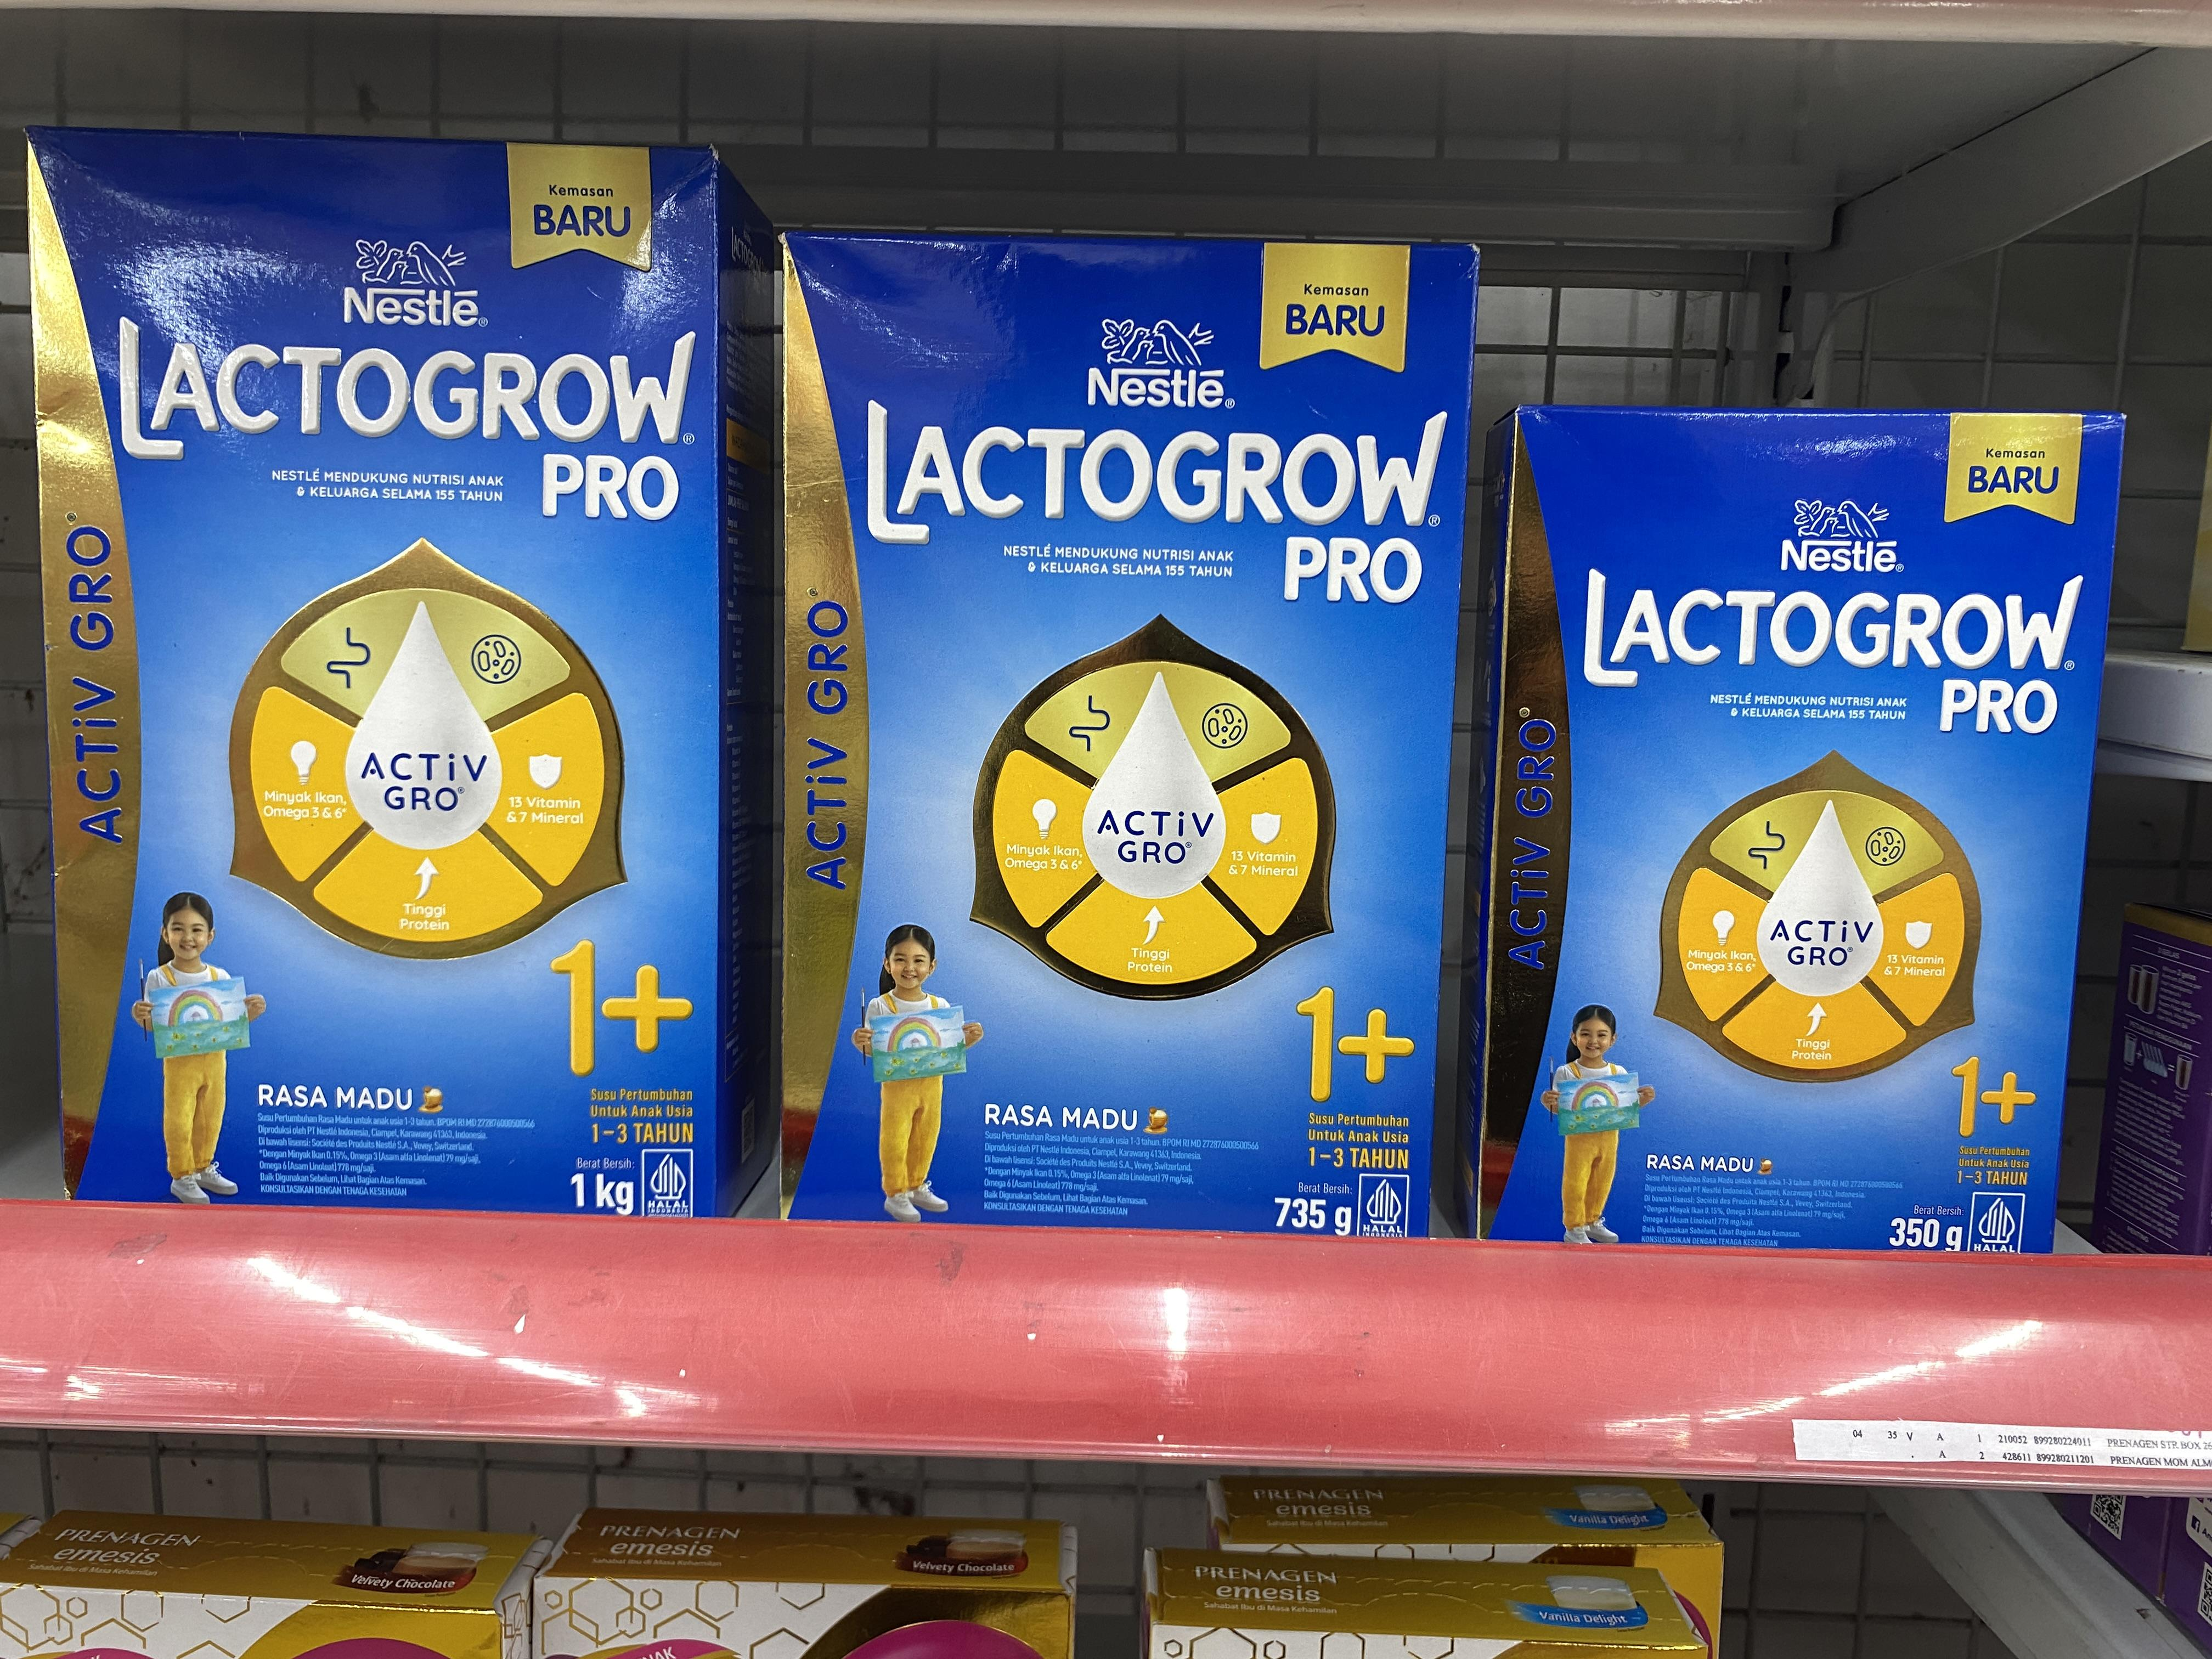LACTOGROW 3 Happynutri Honey 12x1kg N1 ID_REDESIGN2: (26, 129, 719, 1218), (777, 225, 1467, 1234)
LACTOGROW 3 Happynutri Honey 12x750g N1 ID_REDESIGN2: (23, 129, 716, 1218), (772, 230, 1467, 1234), (1475, 408, 2113, 1253)
LACTOGROW 3 Happynutri Honey 24x350g N1 ID_REDESIGN2: (35, 127, 723, 1213), (1474, 404, 2114, 1248)
